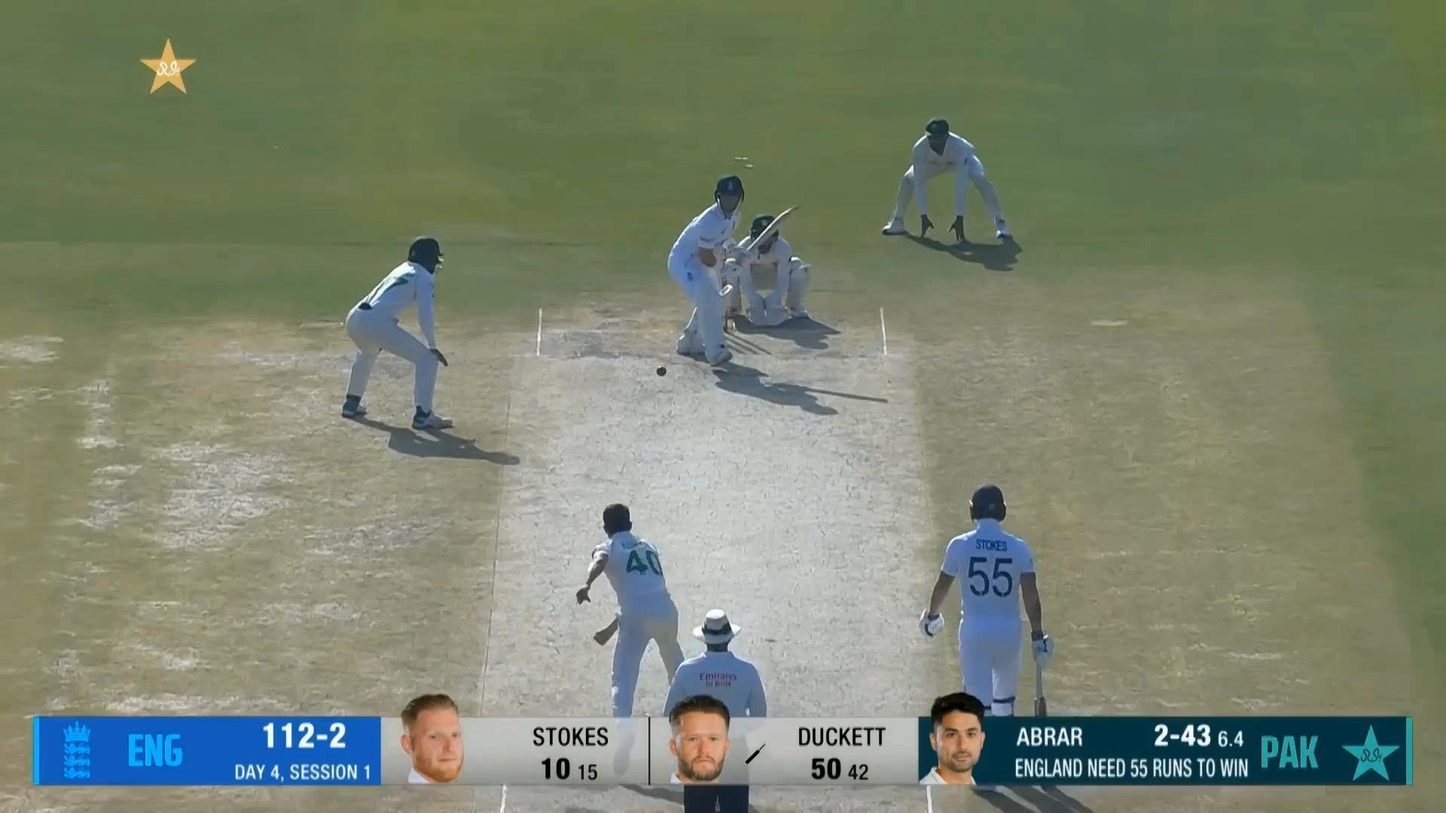BM 1: (665, 175, 803, 366)
BO: (574, 498, 710, 781)
